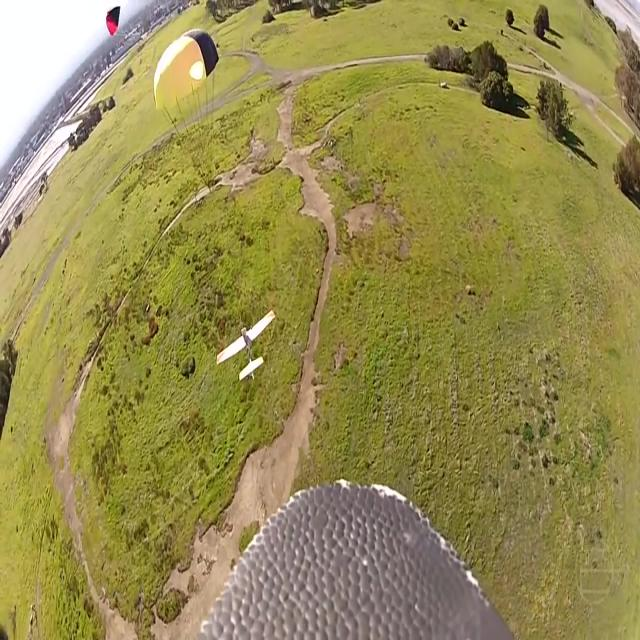iha: (216, 344, 276, 346)
